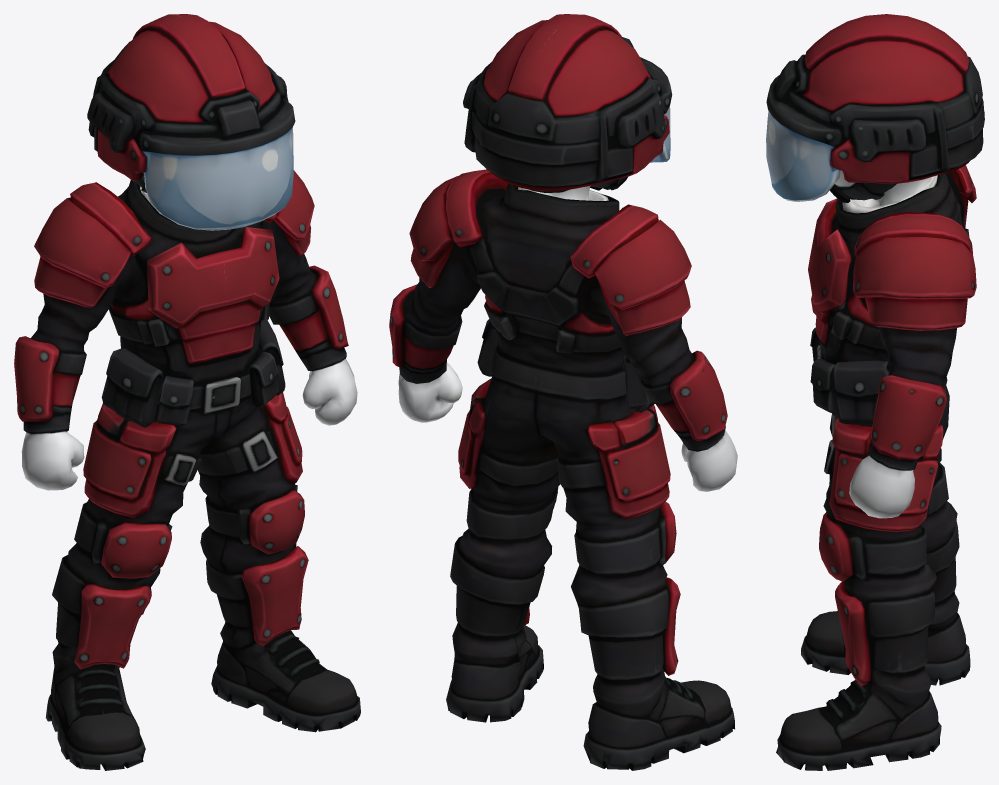
The model's file is hard-enforcer.glb.
The picture shows the model from 3 angles, left to right: view 1: azimuth 30°, elevation 25°; view 2: azimuth 150°, elevation 25°; view 3: azimuth 270°, elevation 25°; orthographic projection.
Parts seen in each view (by area): view 1: geometry_0; view 2: geometry_0; view 3: geometry_0.
Part boxes in pixels (box(x1,y1,x2,y2)): geometry_0: box(14, 14, 360, 770); geometry_0: box(389, 14, 737, 770); geometry_0: box(766, 14, 984, 770).
Bounding box in the file's own units: 0.4712 × 0.9517 × 0.2734.
Materials: 1 (1 with a texture image).
